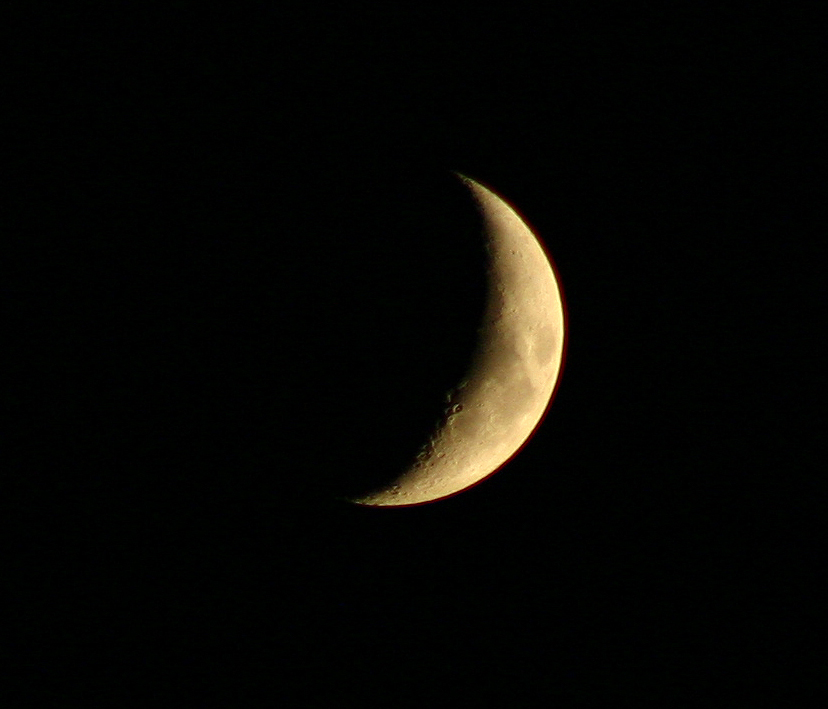crater: (450, 392, 466, 417)
